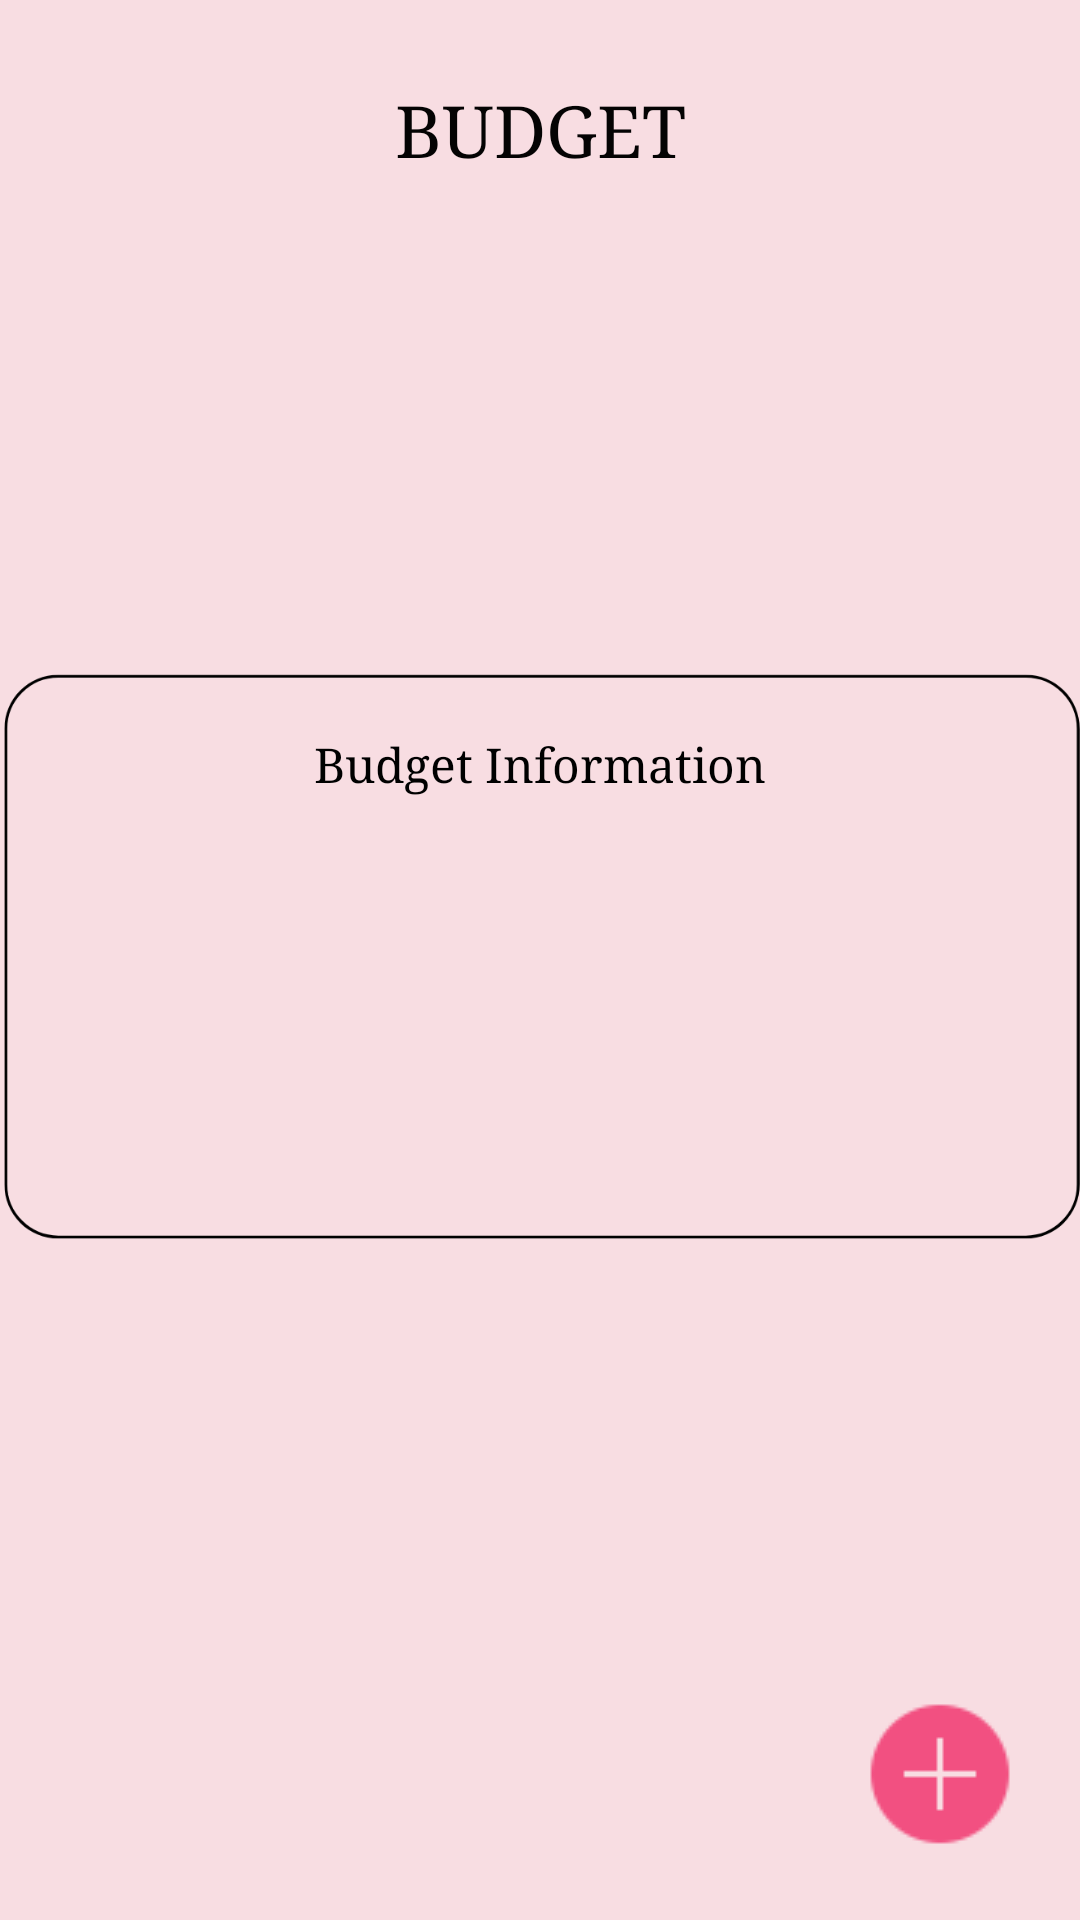

Locate icon controls on the screen. Image size 1080×1920, boxes as (x1, y1, x2, y2).
plus: (870, 1704, 1010, 1844)
